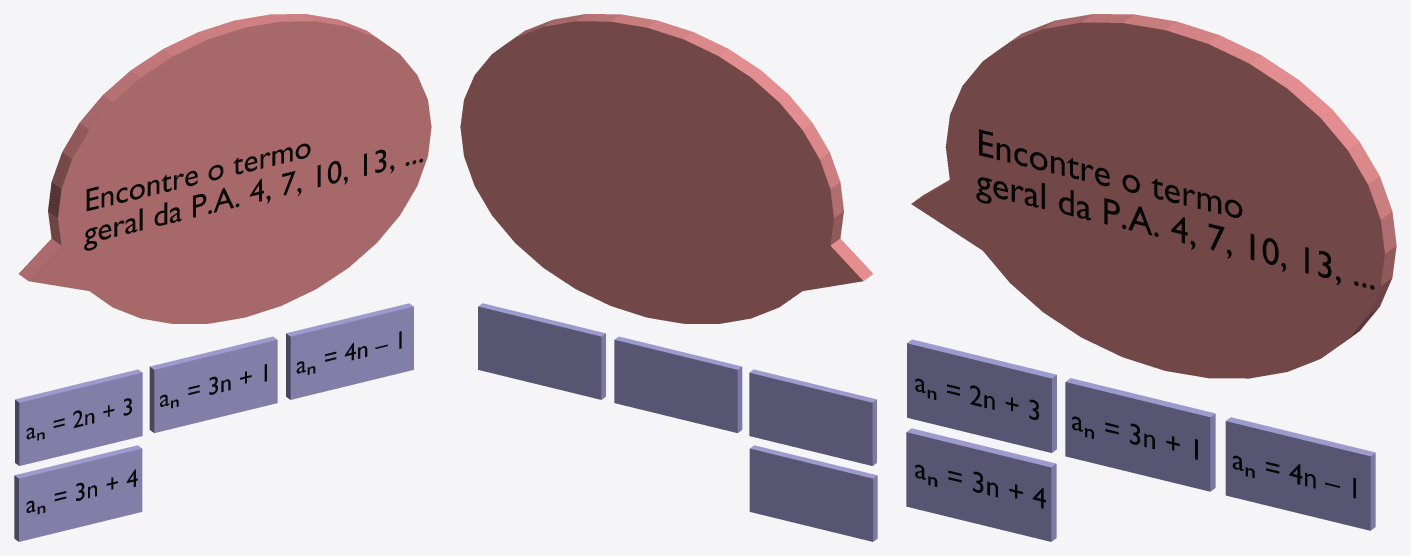
The model's file is 2PERGUNTA.fbx.
3 renders of one model, left to right at view 1: azimuth 30°, elevation 25°; view 2: azimuth 150°, elevation 25°; view 3: azimuth 330°, elevation 25°, orthographic. The views are drawn at different scales.
Parts seen in each view (by area): view 1: 2PERGUNTA, D)aₙ = 3n + 4, B)aₙ = 3n + 1, A)aₙ = 2n + 3, C)aₙ = 4n – 1; view 2: 2PERGUNTA, D)aₙ = 3n + 4, B)aₙ = 3n + 1, A)aₙ = 2n + 3, C)aₙ = 4n – 1; view 3: 2PERGUNTA, C)aₙ = 4n – 1, D)aₙ = 3n + 4, B)aₙ = 3n + 1, A)aₙ = 2n + 3.
Boxes of the visible parts, box(x1,y1,x2,y2) form: 2PERGUNTA: box(19, 14, 431, 323); D)aₙ = 3n + 4: box(14, 445, 142, 541); B)aₙ = 3n + 1: box(149, 336, 277, 432); A)aₙ = 2n + 3: box(15, 369, 142, 465); C)aₙ = 4n – 1: box(286, 303, 413, 399); 2PERGUNTA: box(460, 14, 872, 323); D)aₙ = 3n + 4: box(749, 445, 877, 541); B)aₙ = 3n + 1: box(614, 336, 742, 432); A)aₙ = 2n + 3: box(749, 369, 876, 465); C)aₙ = 4n – 1: box(478, 303, 605, 399); 2PERGUNTA: box(911, 14, 1396, 378); C)aₙ = 4n – 1: box(1225, 417, 1375, 530); D)aₙ = 3n + 4: box(906, 428, 1056, 541); B)aₙ = 3n + 1: box(1065, 378, 1215, 491); A)aₙ = 2n + 3: box(907, 339, 1056, 452).
Bounding box in the file's own units: 219 × 236 × 9.39.
